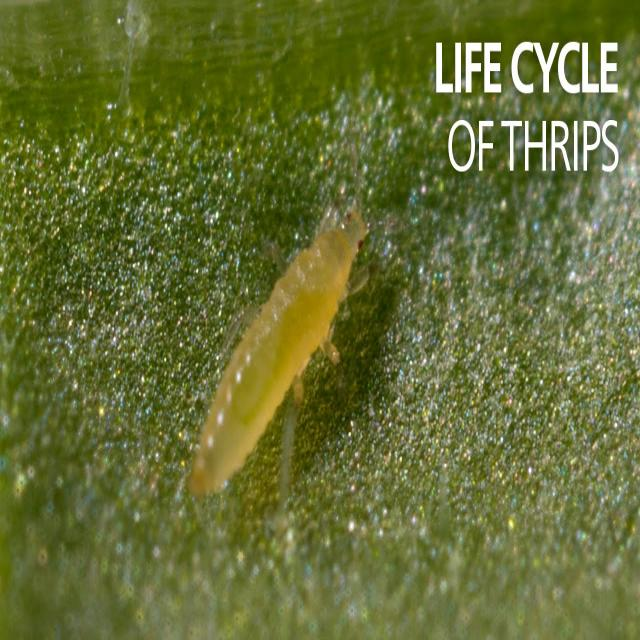Thrip-Larva-: (178, 194, 383, 512)
